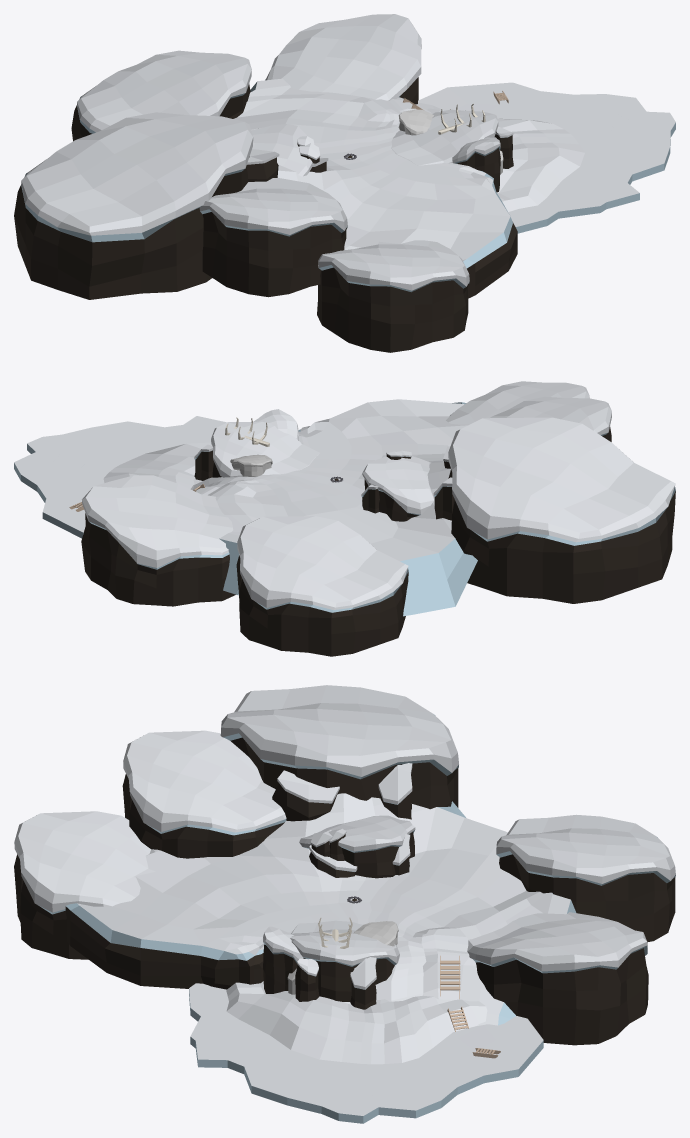
The model's file is Habitat.obj.
The picture shows the model from 3 angles, top to bottom: view 1: azimuth 30°, elevation 25°; view 2: azimuth 150°, elevation 25°; view 3: azimuth 270°, elevation 25°; orthographic projection. The views are drawn at different scales.
Parts seen in each view (by area): view 1: cliff_004_Plane_097, mountain_Plane_001, ice_Plane_007, cliff_003_Plane_038, cliff_005_Plane_107, cliff_001_Plane_032, cliff_008_Plane_043, snow_Plane_006, cliff_Plane_005, cliff_002_Plane_000, cliff_006_Plane_016, rocks2_002_Plane_101 (+1 smaller); view 2: cliff_004_Plane_097, mountain_Plane_001, cliff_008_Plane_043, cliff_001_Plane_032, ice_Plane_007, cliff_Plane_005, cliff_002_Plane_000, cliff_003_Plane_038, cliff_005_Plane_107, snow_Plane_006, cliff_007_Plane_039, rocks3_002_Plane_104 (+3 smaller); view 3: mountain_Plane_001, ice_Plane_007, cliff_004_Plane_097, cliff_001_Plane_032, cliff_005_Plane_107, cliff_008_Plane_043, cliff_003_Plane_038, snow_Plane_006, cliff_Plane_005, cliff_002_Plane_000, rocks2_002_Plane_101, cliff_006_Plane_016 (+5 smaller).
Part boxes in pixels (x1,y1,x2,y2): cliff_004_Plane_097: (14, 112, 253, 299); mountain_Plane_001: (234, 78, 517, 298); ice_Plane_007: (418, 82, 675, 233); cliff_003_Plane_038: (317, 240, 469, 352); cliff_005_Plane_107: (199, 178, 347, 297); cliff_001_Plane_032: (265, 14, 421, 104); cliff_008_Plane_043: (71, 50, 251, 141); snow_Plane_006: (427, 108, 584, 211); cliff_Plane_005: (391, 109, 498, 165); cliff_002_Plane_000: (251, 124, 312, 176); cliff_006_Plane_016: (452, 137, 500, 192); rocks2_002_Plane_101: (246, 149, 279, 181); cliff_004_Plane_097: (448, 417, 675, 603); mountain_Plane_001: (190, 399, 477, 616); cliff_008_Plane_043: (236, 516, 408, 656); cliff_001_Plane_032: (81, 475, 235, 606); ice_Plane_007: (14, 416, 226, 538); cliff_Plane_005: (211, 421, 319, 477); cliff_002_Plane_000: (362, 456, 433, 521); cliff_003_Plane_038: (446, 381, 589, 424); cliff_005_Plane_107: (490, 396, 611, 441); snow_Plane_006: (103, 442, 211, 489); cliff_007_Plane_039: (230, 454, 272, 476); rocks3_002_Plane_104: (433, 477, 453, 520); mountain_Plane_001: (65, 793, 576, 1025); ice_Plane_007: (189, 983, 543, 1123); cliff_004_Plane_097: (220, 685, 458, 809); cliff_001_Plane_032: (467, 912, 648, 1045); cliff_005_Plane_107: (122, 730, 286, 858); cliff_008_Plane_043: (496, 814, 675, 942); cliff_003_Plane_038: (14, 811, 155, 959); snow_Plane_006: (226, 981, 487, 1064); cliff_Plane_005: (290, 920, 399, 1001); cliff_002_Plane_000: (299, 815, 415, 878); rocks2_002_Plane_101: (272, 770, 339, 821); cliff_006_Plane_016: (263, 926, 303, 993).
Size of the model in its own units: 33.26 by 6.61 by 26.34.
